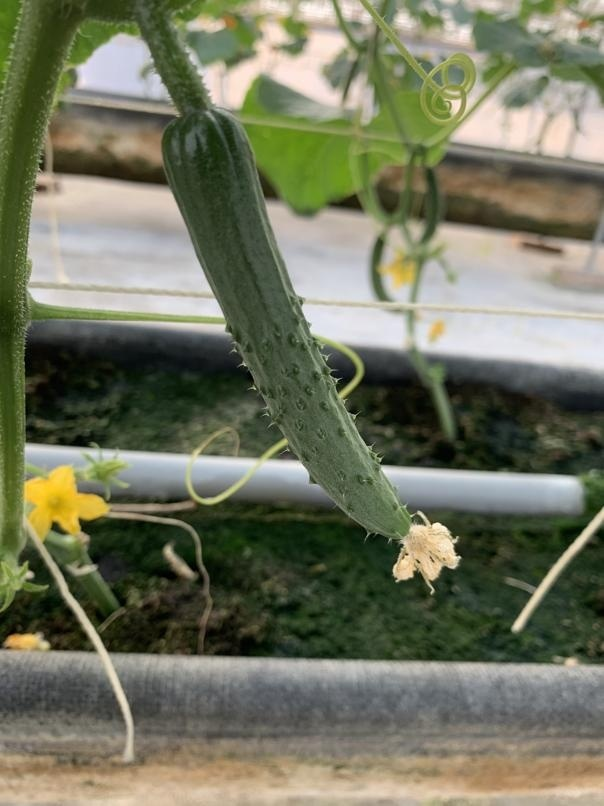growth: (121, 63, 470, 597)
